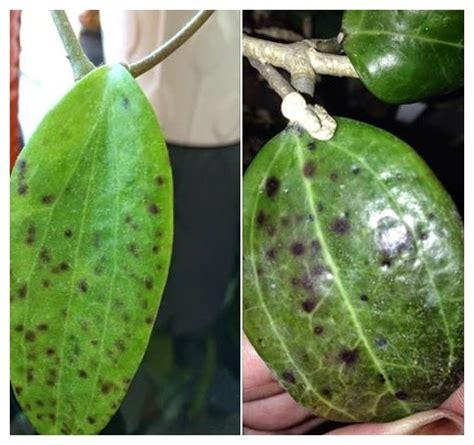black-spot: (12, 166, 145, 350)
